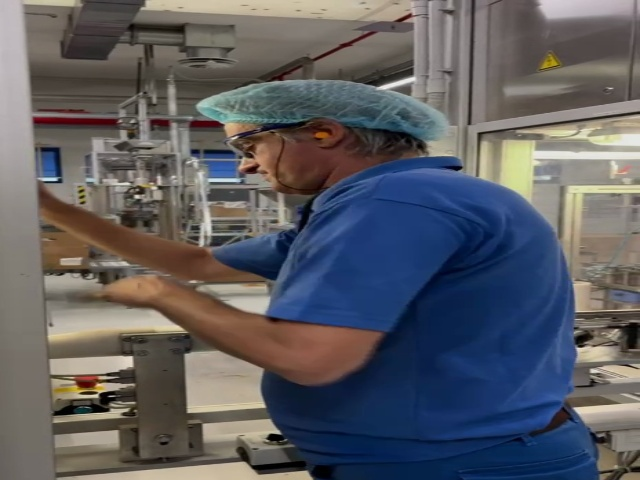Earplug: (305, 119, 347, 151)
Hairnet: (195, 79, 446, 141)
No_Helmet: (194, 78, 446, 122)
No_Vest: (264, 171, 573, 480)
Person: (198, 77, 594, 480)
Safety_Goggles: (222, 120, 313, 157)
